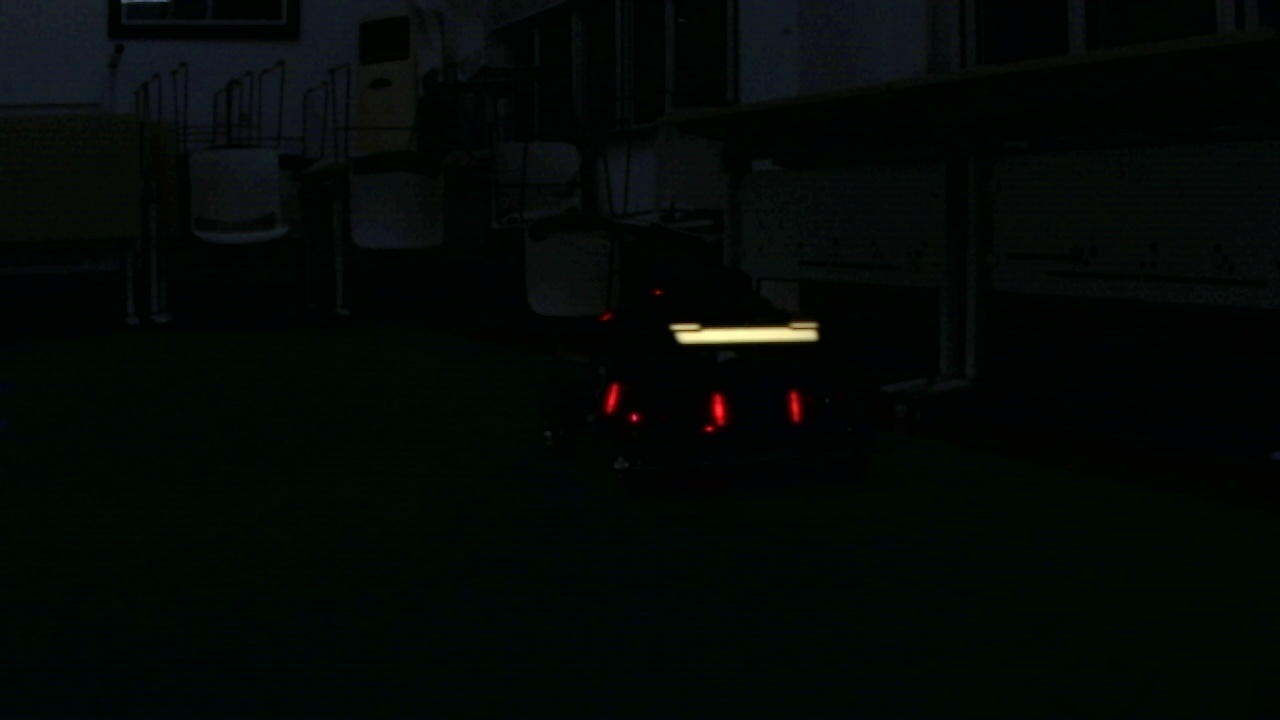lamp: (601, 377, 622, 416), (708, 387, 726, 421), (781, 389, 800, 421)
pair1: (711, 393, 803, 419)
